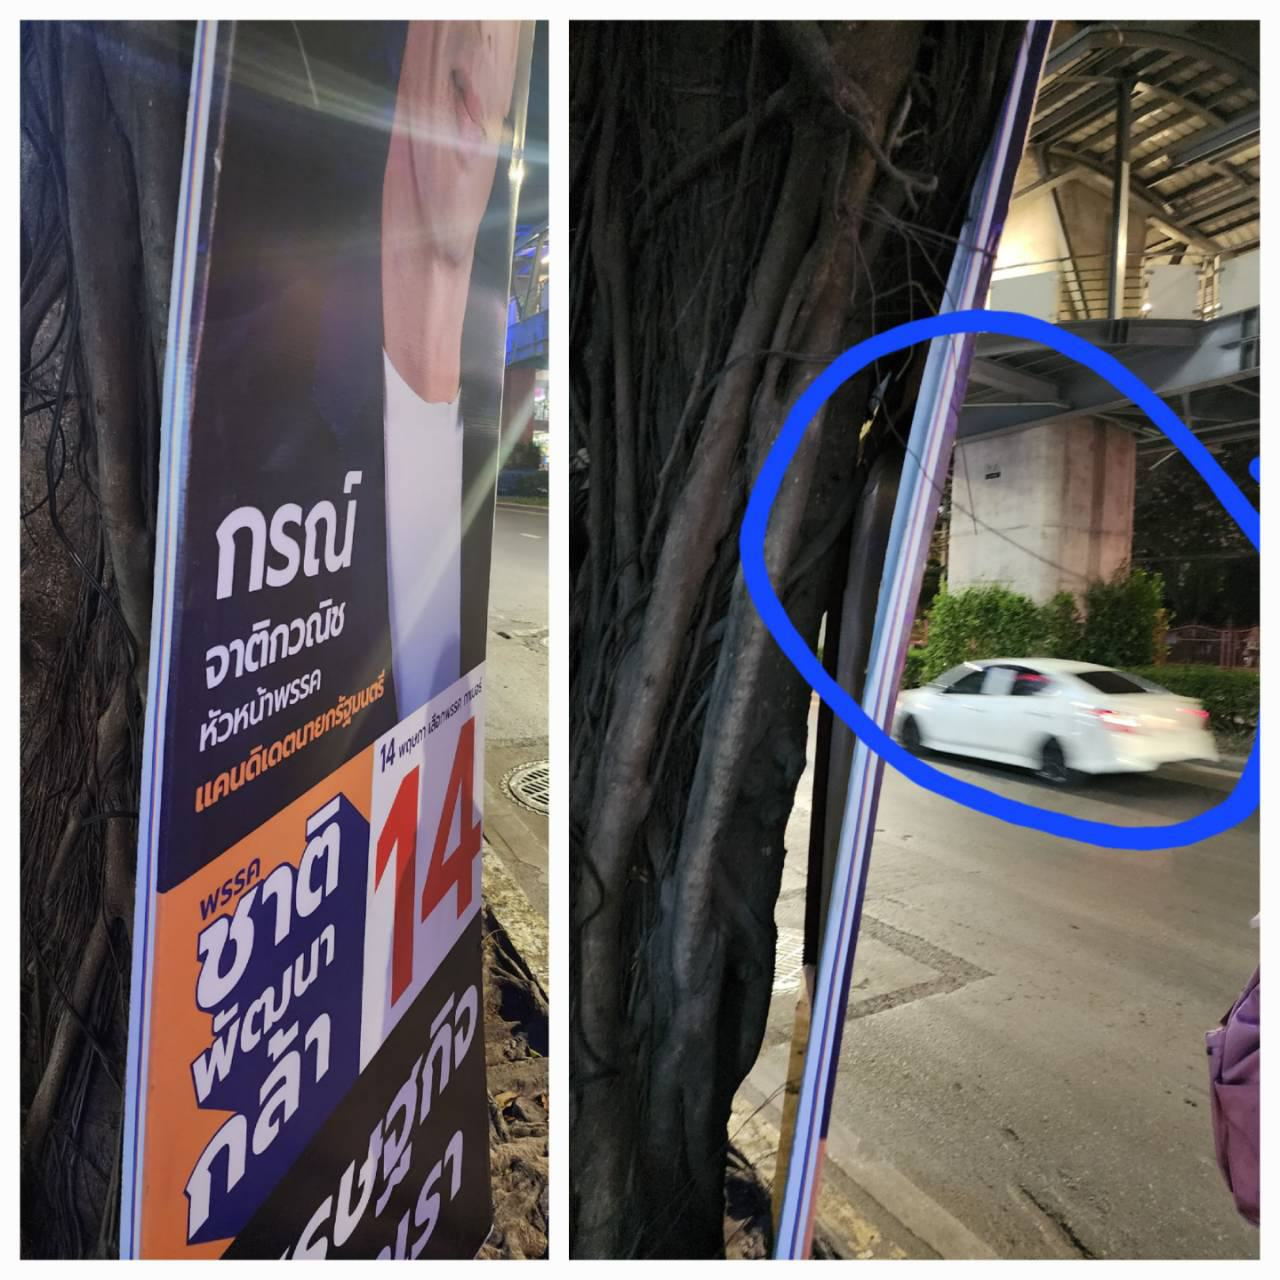Banner: (145, 18, 510, 1261)
